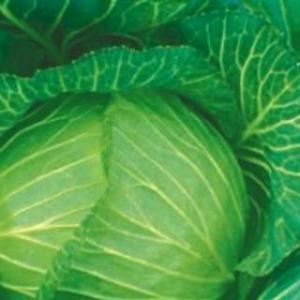cabbage: (0, 86, 252, 300)
